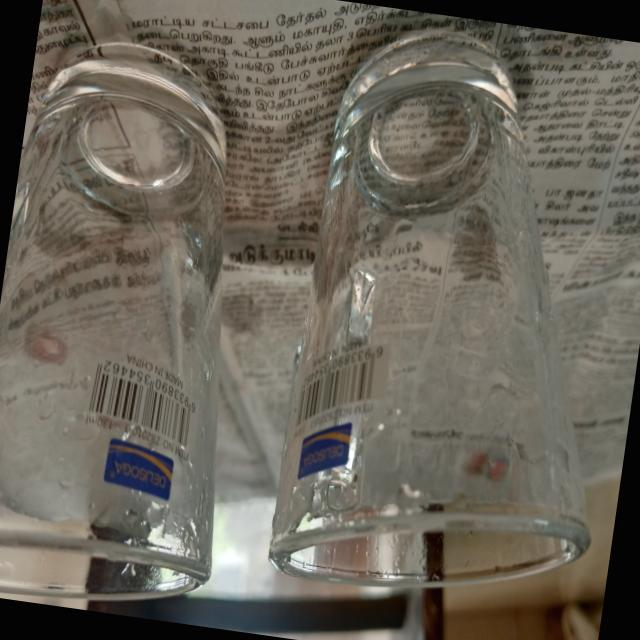glass-VX4N: (265, 19, 640, 620), (0, 26, 289, 619)
